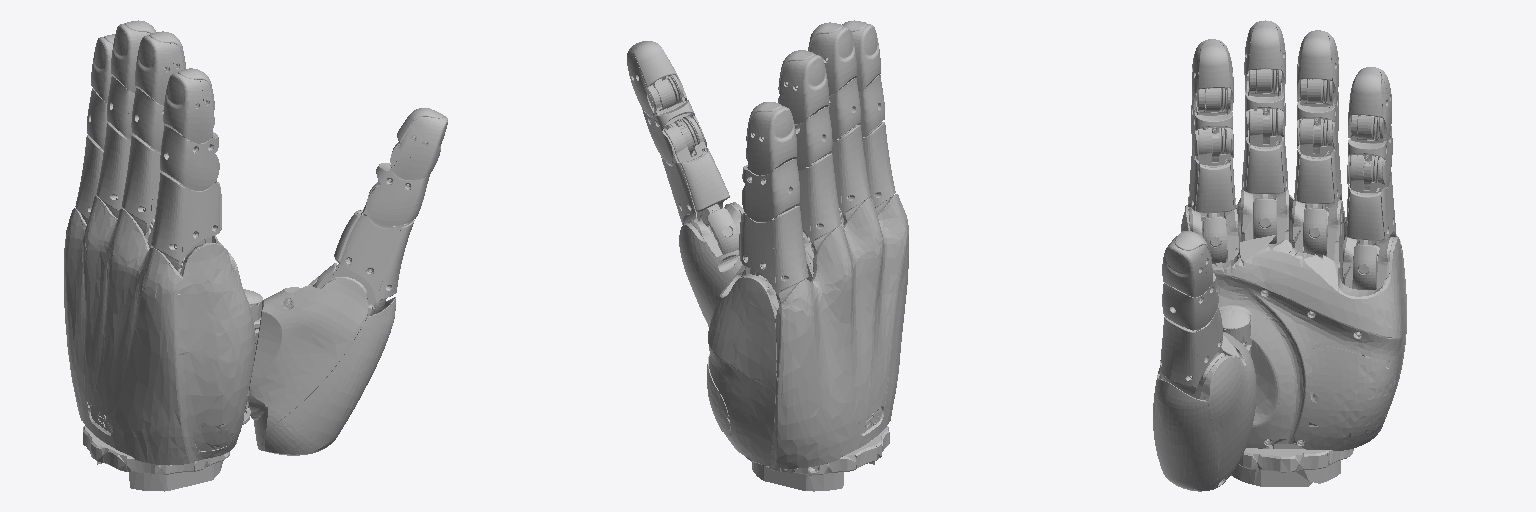
--- Facts derived from the render (not from the file) ---
Views: 3 orthographic renders of the robot side by side, from view 1: azimuth 30°, elevation 25°; view 2: azimuth 150°, elevation 25°; view 3: azimuth 270°, elevation 25°.
Robot: Left_adof_qca — 22 links, 21 joints (21 revolute); root link base_link; default pose: all joints at 0.
Visible links, largest first — view 1: base_link, Thumb_rot, Thumb_MCP_Yaw, Index_MCP_Yaw, Index_Distal_Phalanx, Thumb_Distal_Phalanx, Index_Middle_Phalanx, Thumb_Middle_Phalanx, Middle_MCP_Yaw, Middle_Distal_Phalanx, Ring_MCP_Yaw, Ring_Distal_Phalanx (+5 smaller); view 2: base_link, Thumb_MCP_Yaw, Pinky_MCP_Yaw, Thumb_rot, Pinky_Distal_Phalanx, Ring_MCP_Yaw, Ring_Distal_Phalanx, Pinky_Middle_Phalanx, Thumb_Distal_Phalanx, Middle_MCP_Yaw, Middle_Distal_Phalanx, Thumb_Middle_Phalanx (+5 smaller); view 3: base_link, Thumb_rot, Pinky_MCP_Yaw, Ring_MCP_Yaw, Index_MCP_Yaw, Middle_MCP_Yaw, Thumb_MCP_Yaw, Thumb_Distal_Phalanx, Pinky_Distal_Phalanx, Ring_Distal_Phalanx, Index_Distal_Phalanx, Middle_Distal_Phalanx (+5 smaller).
Link boxes in pixels (<box>): base_link: <box>64,196,262,491</box>; Thumb_rot: <box>248,276,395,455</box>; Thumb_MCP_Yaw: <box>313,182,414,316</box>; Index_MCP_Yaw: <box>151,173,221,273</box>; Index_Distal_Phalanx: <box>163,68,214,143</box>; Thumb_Distal_Phalanx: <box>390,108,447,179</box>; Index_Middle_Phalanx: <box>160,117,219,190</box>; Thumb_Middle_Phalanx: <box>367,147,430,226</box>; Middle_MCP_Yaw: <box>122,135,162,239</box>; Middle_Distal_Phalanx: <box>135,31,185,105</box>; Ring_MCP_Yaw: <box>96,123,130,217</box>; Ring_Distal_Phalanx: <box>111,20,155,93</box>; base_link: <box>707,194,908,491</box>; Thumb_MCP_Yaw: <box>661,116,739,254</box>; Pinky_MCP_Yaw: <box>739,206,808,305</box>; Thumb_rot: <box>679,202,744,326</box>; Pinky_Distal_Phalanx: <box>746,102,796,175</box>; Ring_MCP_Yaw: <box>798,153,841,255</box>; Ring_Distal_Phalanx: <box>778,50,828,123</box>; Pinky_Middle_Phalanx: <box>742,148,799,221</box>; Thumb_Distal_Phalanx: <box>627,41,686,116</box>; Middle_MCP_Yaw: <box>829,125,870,224</box>; Middle_Distal_Phalanx: <box>808,22,856,95</box>; Thumb_Middle_Phalanx: <box>642,75,706,163</box>; base_link: <box>1181,189,1406,486</box>; Thumb_rot: <box>1153,332,1256,491</box>; Pinky_MCP_Yaw: <box>1346,155,1396,289</box>; Ring_MCP_Yaw: <box>1294,119,1341,256</box>; Index_MCP_Yaw: <box>1188,128,1235,263</box>; Middle_MCP_Yaw: <box>1242,109,1287,243</box>; Thumb_MCP_Yaw: <box>1160,307,1222,395</box>; Thumb_Distal_Phalanx: <box>1162,231,1212,297</box>; Pinky_Distal_Phalanx: <box>1348,67,1391,140</box>; Ring_Distal_Phalanx: <box>1297,30,1338,103</box>; Index_Distal_Phalanx: <box>1192,39,1233,112</box>; Middle_Distal_Phalanx: <box>1244,20,1285,93</box>.
Bounding box of the posed robot: 0.1769 × 0.1304 × 0.247 m (x, y, z).
Meshes: 20 distinct files referenced, 22 mesh visuals loaded (20 binary STL).

URDF robot description (Left_adof_qca):
<?xml version="1.0" encoding="utf-8"?>
<!-- This URDF was automatically created by SolidWorks to URDF Exporter! Originally created by Stephen Brawner ([email redacted]) 
     Commit Version: 1.6.0-4-g7f85cfe  Build Version: 1.6.7995.38578
     For more information, please see http://wiki.ros.org/sw_urdf_exporter -->
<robot
  name="Left_adof_qca">
  <link
    name="base_link">
    <inertial>
      <origin
        xyz="0.00262 0.0018597 0.072402"
        rpy="0 0 0" />
      <mass
        value="0.87931" />
      <inertia
        ixx="0.0002736"
        ixy="5.4998E-06"
        ixz="5.6163E-07"
        iyy="0.0002408"
        iyz="6.42E-06"
        izz="0.00022581" />
    </inertial>
    <visual>
      <origin
        xyz="0 0 0"
        rpy="0 0 0" />
      <geometry>
        <mesh
          filename="./meshes/base_link.STL" />
      </geometry>
      <material
        name="">
        <color
          rgba="0.75294 0.75294 0.75294 1" />
      </material>
    </visual>
    <collision>
      <origin
        xyz="0 0 0"
        rpy="0 0 0" />
      <geometry>
        <mesh
          filename="./meshes/collmesh_base_link.STL" />
      </geometry>
    </collision>
  </link>
  <link
    name="Thumb_rot">
    <inertial>
      <origin
        xyz="0.036236 0.0066844 -0.035147"
        rpy="0 0 0" />
      <mass
        value="0.17849" />
      <inertia
        ixx="3.5551E-05"
        ixy="-1.8766E-06"
        ixz="-7.8788E-06"
        iyy="4.783E-05"
        iyz="-4.5666E-06"
        izz="2.1648E-05" />
    </inertial>
    <visual>
      <origin
        xyz="0 0 0"
        rpy="0 0 0" />
      <geometry>
        <mesh
          filename="./meshes/Thumb_rot.STL" />
      </geometry>
      <material
        name="">
        <color
          rgba="0.75294 0.75294 0.75294 1" />
      </material>
    </visual>
    <collision>
      <origin
        xyz="0 0 0"
        rpy="0 0 0" />
      <geometry>
        <mesh
          filename="./meshes/collmesh_thumb_rot.STL" />
      </geometry>
    </collision>
  </link>
  <joint
    name="revolute_Thumb_rot"
    type="revolute">
    <origin
      xyz="0.033806 -0.027174 0.098137"
      rpy="-0.060476 0.087782 -0.60444" />
    <parent
      link="base_link" />
    <child
      link="Thumb_rot" />
    <axis
      xyz="0 0 1" />
    <limit
      lower="-0.35"
      upper="0.35"
      effort="0"
      velocity="0" />
  </joint>
  <link
    name="Thumb_MCP_Pitch">
    <inertial>
      <origin
        xyz="-0.0010527 0.00024417 -0.0010403"
        rpy="0 0 0" />
      <mass
        value="1.5551E-08" />
      <inertia
        ixx="1.3996E-14"
        ixy="3.9443E-31"
        ixz="1.9722E-31"
        iyy="1.3996E-14"
        iyz="4.9304E-31"
        izz="1.3996E-14" />
    </inertial>
    <visual>
      <origin
        xyz="0 0 0"
        rpy="0 0 0" />
      <geometry>
        <mesh
          filename="./meshes/Thumb_MCP_Pitch.STL" />
      </geometry>
      <material
        name="">
        <color
          rgba="1 1 1 1" />
      </material>
    </visual>
    <collision>
      <origin
        xyz="0 0 0"
        rpy="0 0 0" />
      <geometry>
        <mesh
          filename="./meshes/Thumb_MCP_Pitch.STL" />
      </geometry>
    </collision>
  </link>
  <joint
    name="revolute_thumb_mcp_pitch"
    type="revolute">
    <origin
      xyz="0.049572 0.012465 -0.0022098"
      rpy="1.0587 -1.2066 0.48367" />
    <parent
      link="Thumb_rot" />
    <child
      link="Thumb_MCP_Pitch" />
    <axis
      xyz="0 0 1" />
    <limit
      lower="-0.069"
      upper="1.396"
      effort="0"
      velocity="0" />
  </joint>
  <link
    name="Thumb_MCP_Yaw">
    <inertial>
      <origin
        xyz="0.023289 -0.00025927 -0.0024467"
        rpy="0 0 0" />
      <mass
        value="0.067673" />
      <inertia
        ixx="2.5521E-06"
        ixy="-1.1521E-07"
        ixz="-6.4225E-07"
        iyy="7.0422E-06"
        iyz="-1.6244E-08"
        izz="6.1279E-06" />
    </inertial>
    <visual>
      <origin
        xyz="0 0 0"
        rpy="0 0 0" />
      <geometry>
        <mesh
          filename="./meshes/Index_MCP_Yaw.STL" />
      </geometry>
      <material
        name="">
        <color
          rgba="0.75294 0.75294 0.75294 1" />
      </material>
    </visual>
    <collision>
      <origin
        xyz="0 0 0"
        rpy="0 0 0" />
      <geometry>
        <mesh
          filename="./meshes/collmesh_PIP.STL" />
      </geometry>
    </collision>
  </link>
  <joint
    name="revolute_thumb_mcp_yaw"
    type="revolute">
    <origin
      xyz="0 0 0"
      rpy="-1.5708 0 -0.17819" />
    <parent
      link="Thumb_MCP_Pitch" />
    <child
      link="Thumb_MCP_Yaw" />
    <axis
      xyz="0 0 1" />
    <limit
      lower="-0.26"
      upper="0.26"
      effort="0"
      velocity="0" />
  </joint>
  <link
    name="Thumb_Middle_Phalanx">
    <inertial>
      <origin
        xyz="0.0077599 -0.0017774 -0.00030606"
        rpy="0 0 0" />
      <mass
        value="0.029543" />
      <inertia
        ixx="7.8711E-07"
        ixy="-4.3576E-08"
        ixz="-8.3245E-09"
        iyy="1.5531E-06"
        iyz="2.1732E-09"
        izz="1.867E-06" />
    </inertial>
    <visual>
      <origin
        xyz="0 0 0"
        rpy="0 0 0" />
      <geometry>
        <mesh
          filename="./meshes/Index_Middle_Phalanx.STL" />
      </geometry>
      <material
        name="">
        <color
          rgba="0.75294 0.75294 0.75294 1" />
      </material>
    </visual>
    <collision>
      <origin
        xyz="0 0 0"
        rpy="0 0 0" />
      <geometry>
        <mesh
          filename="./meshes/collmesh_MIP.STL" />
      </geometry>
    </collision>
  </link>
  <joint
    name="revolute_thumb_pip"
    type="revolute">
    <origin
      xyz="0.054033 0 0.0095766"
      rpy="1.5708 -0.17818 0" />
    <parent
      link="Thumb_MCP_Yaw" />
    <child
      link="Thumb_Middle_Phalanx" />
    <axis
      xyz="0 0 1" />
    <limit
      lower="-0.069"
      upper="1.57"
      effort="0"
      velocity="0" />
  </joint>
  <link
    name="Thumb_Distal_Phalanx">
    <inertial>
      <origin
        xyz="0.004942 0.0056589 0.0014452"
        rpy="0 0 0" />
      <mass
        value="0.022688" />
      <inertia
        ixx="1.2285E-06"
        ixy="-2.9815E-07"
        ixz="3.0627E-10"
        iyy="1.0792E-06"
        iyz="1.0593E-08"
        izz="1.2931E-06" />
    </inertial>
    <visual>
      <origin
        xyz="0 0 0"
        rpy="0 0 0" />
      <geometry>
        <mesh
          filename="./meshes/Thumb_Distal_Phalanx.STL" />
      </geometry>
      <material
        name="">
        <color
          rgba="0.75294 0.75294 0.75294 1" />
      </material>
    </visual>
    <collision>
      <origin
        xyz="0 0 0"
        rpy="0 0 1" />
      <geometry>
        <mesh
          filename="./meshes/collmesh_DIP.STL" />
      </geometry>
    </collision>
  </link>
  <joint
    name="revolute_thumb_dip"
    type="revolute">
    <origin
      xyz="0.025 0 0"
      rpy="0 0 -1.0072" />
    <parent
      link="Thumb_Middle_Phalanx" />
    <child
      link="Thumb_Distal_Phalanx" />
    <axis
      xyz="0 0 1" />
    <limit
      lower="0"
      upper="1.57"
      effort="0"
      velocity="0" />
    <mimic
      joint="revolute_thumb_pip"
      multiplier="1"
      offset="0" />
  </joint>
  <link
    name="Index_MCP_Pitch">
    <inertial>
      <origin
        xyz="7.7147E-14 -4.5621E-13 1.5508E-14"
        rpy="0 0 0" />
      <mass
        value="1.5551E-08" />
      <inertia
        ixx="1.3996E-14"
        ixy="-1.2037E-35"
        ixz="0"
        iyy="1.3996E-14"
        iyz="3.2358E-32"
        izz="1.3996E-14" />
    </inertial>
    <visual>
      <origin
        xyz="0 0 0"
        rpy="0 0 0" />
      <geometry>
        <mesh
          filename="./meshes/Index_MCP_Pitch.STL" />
      </geometry>
      <material
        name="">
        <color
          rgba="1 1 1 1" />
      </material>
    </visual>
    <collision>
      <origin
        xyz="0 0 0"
        rpy="0 0 0" />
      <geometry>
        <mesh
          filename="./meshes/Index_MCP_Pitch.STL" />
      </geometry>
    </collision>
  </link>
  <joint
    name="revolute_index_mcp_pitch"
    type="revolute">
    <origin
      xyz="-0.0023244 -0.036779 0.12754"
      rpy="-1.4835 -1.5708 0" />
    <parent
      link="base_link" />
    <child
      link="Index_MCP_Pitch" />
    <axis
      xyz="0 0 1" />
    <limit
      lower="-0.069"
      upper="1.396"
      effort="0"
      velocity="0" />
  </joint>
  <link
    name="Index_MCP_Yaw">
    <inertial>
      <origin
        xyz="0.023354 -0.00025925 0.0017197"
        rpy="0 0 0" />
      <mass
        value="0.067673" />
      <inertia
        ixx="2.8886E-06"
        ixy="-1.1047E-07"
        ixz="-1.2256E-06"
        iyy="7.0421E-06"
        iyz="-3.64E-08"
        izz="5.7914E-06" />
    </inertial>
    <visual>
      <origin
        xyz="0 0 0"
        rpy="0 0 0" />
      <geometry>
        <mesh
          filename="./meshes/Index_MCP_Yaw.STL" />
      </geometry>
      <material
        name="">
        <color
          rgba="0.75294 0.75294 0.75294 1" />
      </material>
    </visual>
    <collision>
      <origin
        xyz="0 0 0"
        rpy="0 0 0" />
      <geometry>
        <mesh
          filename="./meshes/collmesh_PIP.STL" />
      </geometry>
    </collision>
  </link>
  <joint
    name="revolute_index_mcp_yaw"
    type="revolute">
    <origin
      xyz="0 0 0"
      rpy="-1.5707963267949 0 -0.178185124236641" />
    <parent
      link="Index_MCP_Pitch" />
    <child
      link="Index_MCP_Yaw" />
    <axis
      xyz="0 0 -1" />
    <limit
      lower="-0.26"
      upper="0.26"
      effort="0"
      velocity="0" />
  </joint>
  <link
    name="Index_Middle_Phalanx">
    <inertial>
      <origin
        xyz="0.0077597 -0.0017773 -0.00030608"
        rpy="0 0 0" />
      <mass
        value="0.029544" />
      <inertia
        ixx="7.8714E-07"
        ixy="-4.3541E-08"
        ixz="-8.3303E-09"
        iyy="1.553E-06"
        iyz="2.17E-09"
        izz="1.867E-06" />
    </inertial>
    <visual>
      <origin
        xyz="0 0 0"
        rpy="0 0 0" />
      <geometry>
        <mesh
          filename="./meshes/Index_Middle_Phalanx.STL" />
      </geometry>
      <material
        name="">
        <color
          rgba="0.75294 0.75294 0.75294 1" />
      </material>
    </visual>
    <collision>
      <origin
        xyz="0 0 0"
        rpy="0 0 0" />
      <geometry>
        <mesh
          filename="./meshes/collmesh_MIP.STL" />
      </geometry>
    </collision>
  </link>
  <joint
    name="revolute_index_pip"
    type="revolute">
    <origin
      xyz="0.0531773329375974 0 0.00957659855900985"
      rpy="1.5707963267949 -0.178178157442995 0" />
    <parent
      link="Index_MCP_Yaw" />
    <child
      link="Index_Middle_Phalanx" />
    <axis
      xyz="0 0 1" />
    <limit
      lower="-0.069"
      upper="1.57"
      effort="0"
      velocity="0" />
  </joint>
  <link
    name="Index_Distal_Phalanx">
    <inertial>
      <origin
        xyz="0.0074236 -0.0011546 0.0014452"
        rpy="0 0 0" />
      <mass
        value="0.022687" />
      <inertia
        ixx="8.5252E-07"
        ixy="6.06E-08"
        ixz="9.1394E-09"
        iyy="1.4552E-06"
        iyz="5.4194E-09"
        izz="1.2931E-06" />
    </inertial>
    <visual>
      <origin
        xyz="0 0 0"
        rpy="0 0 0" />
      <geometry>
        <mesh
          filename="./meshes/Index_Distal_Phalanx.STL" />
      </geometry>
      <material
        name="">
        <color
          rgba="0.75294 0.75294 0.75294 1" />
      </material>
    </visual>
    <collision>
      <origin
        xyz="0 0 0"
        rpy="0 0 0" />
      <geometry>
        <mesh
          filename="./meshes/collmesh_DIP.STL" />
      </geometry>
    </collision>
  </link>
  <joint
    name="revolute_index_dip"
    type="revolute">
    <origin
      xyz="0.024999999999999 0 0"
      rpy="0 0 0" />
    <parent
      link="Index_Middle_Phalanx" />
    <child
      link="Index_Distal_Phalanx" />
    <axis
      xyz="0 0 1" />
    <limit
      lower="0"
      upper="1.57"
      effort="0"
      velocity="0" />
    <mimic
      joint="revolute_index_pip"
      multiplier="1"
      offset="0" />
  </joint>
  <link
    name="Middle_MCP_Pitch">
    <inertial>
      <origin
        xyz="8.0741E-14 -3.7871E-13 1.7564E-14"
        rpy="0 0 0" />
      <mass
        value="1.5551E-08" />
      <inertia
        ixx="1.3996E-14"
        ixy="0"
        ixz="-7.5232E-37"
        iyy="1.3996E-14"
        iyz="-1.4013E-45"
        izz="1.3996E-14" />
    </inertial>
    <visual>
      <origin
        xyz="0 0 0"
        rpy="0 0 0" />
      <geometry>
        <mesh
          filename="./meshes/Middle_MCP_Pitch.STL" />
      </geometry>
      <material
        name="">
        <color
          rgba="1 1 1 1" />
      </material>
    </visual>
    <collision>
      <origin
        xyz="0 0 0"
        rpy="0 0 0" />
      <geometry>
        <mesh
          filename="./meshes/Middle_MCP_Pitch.STL" />
      </geometry>
    </collision>
  </link>
  <joint
    name="revolute_middle_mcp_pitch"
    type="revolute">
    <origin
      xyz="-0.0035 -0.01 0.13754"
      rpy="0.0014449 -1.5708 -1.5722" />
    <parent
      link="base_link" />
    <child
      link="Middle_MCP_Pitch" />
    <axis
      xyz="0 0 1" />
    <limit
      lower="-0.069"
      upper="1.396"
      effort="0"
      velocity="0" />
  </joint>
  <link
    name="Middle_MCP_Yaw">
    <inertial>
      <origin
        xyz="0.023354 -0.00025928 0.0017195"
        rpy="0 0 0" />
      <mass
        value="0.067672" />
      <inertia
        ixx="2.8885E-06"
        ixy="-1.105E-07"
        ixz="-1.2256E-06"
        iyy="7.042E-06"
        iyz="-3.6405E-08"
        izz="5.7913E-06" />
    </inertial>
    <visual>
      <origin
        xyz="0 0 0"
        rpy="0 0 0" />
      <geometry>
        <mesh
          filename="./meshes/Middle_MCP_Yaw.STL" />
      </geometry>
      <material
        name="">
        <color
          rgba="0.75294 0.75294 0.75294 1" />
      </material>
    </visual>
    <collision>
      <origin
        xyz="0 0 0"
        rpy="0 0 0" />
      <geometry>
        <mesh
          filename="./meshes/collmesh_PIP.STL" />
      </geometry>
    </collision>
  </link>
  <joint
    name="revolute_middle_mcp_yaw"
    type="revolute">
    <origin
      xyz="0 0 0"
      rpy="-1.5707963267949 0 -0.178178157442995" />
    <parent
      link="Middle_MCP_Pitch" />
    <child
      link="Middle_MCP_Yaw" />
    <axis
      xyz="0 0 -1" />
    <limit
      lower="-0.26"
      upper="0.26"
      effort="0"
      velocity="0" />
  </joint>
  <link
    name="Middle_Middle_Phalanx">
    <inertial>
      <origin
        xyz="0.0077597 -0.0017773 -0.00030609"
        rpy="0 0 0" />
      <mass
        value="0.029544" />
      <inertia
        ixx="7.8714E-07"
        ixy="-4.3538E-08"
        ixz="-8.3303E-09"
        iyy="1.553E-06"
        iyz="2.1695E-09"
        izz="1.867E-06" />
    </inertial>
    <visual>
      <origin
        xyz="0 0 0"
        rpy="0 0 0" />
      <geometry>
        <mesh
          filename="./meshes/Middle_Middle_Phalanx.STL" />
      </geometry>
      <material
        name="">
        <color
          rgba="0.75294 0.75294 0.75294 1" />
      </material>
    </visual>
    <collision>
      <origin
        xyz="0 0 0"
        rpy="0 0 0" />
      <geometry>
        <mesh
          filename="./meshes/collmesh_MIP.STL" />
      </geometry>
    </collision>
  </link>
  <joint
    name="revolute_middle_pip"
    type="revolute">
    <origin
      xyz="0.0531773329375975 0 0.00957659855900988"
      rpy="1.5707963267949 -0.178178157442995 0" />
    <parent
      link="Middle_MCP_Yaw" />
    <child
      link="Middle_Middle_Phalanx" />
    <axis
      xyz="0 0 1" />
    <limit
      lower="-0.069"
      upper="1.57"
      effort="0"
      velocity="0" />
  </joint>
  <link
    name="Middle_Distal_Phalanx">
    <inertial>
      <origin
        xyz="0.0074236 -0.0011546 0.0014453"
        rpy="0 0 0" />
      <mass
        value="0.022687" />
      <inertia
        ixx="8.5251E-07"
        ixy="6.0599E-08"
        ixz="9.1392E-09"
        iyy="1.4552E-06"
        iyz="5.4197E-09"
        izz="1.293E-06" />
    </inertial>
    <visual>
      <origin
        xyz="0 0 0"
        rpy="0 0 0" />
      <geometry>
        <mesh
          filename="./meshes/Middle_Distal_Phalanx.STL" />
      </geometry>
      <material
        name="">
        <color
          rgba="0.75294 0.75294 0.75294 1" />
      </material>
    </visual>
    <collision>
      <origin
        xyz="0 0 0"
        rpy="0 0 0" />
      <geometry>
        <mesh
          filename="./meshes/collmesh_DIP.STL" />
      </geometry>
    </collision>
  </link>
  <joint
    name="revolute_middle_dip"
    type="revolute">
    <origin
      xyz="0.024999999999999 0 0"
      rpy="0 0 0" />
    <parent
      link="Middle_Middle_Phalanx" />
    <child
      link="Middle_Distal_Phalanx" />
    <axis
      xyz="0 0 1" />
    <limit
      lower="0"
      upper="1.57"
      effort="0"
      velocity="0" />
    <mimic
      joint="revolute_middle_pip"
      multiplier="1"
      offset="0" />
  </joint>
  <link
    name="Ring_MCP_Pitch">
    <inertial>
      <origin
        xyz="7.46208650426183E-14 -3.58193943256202E-13 1.64208924235965E-14"
        rpy="0 0 0" />
      <mass
        value="1.55508836352695E-08" />
      <inertia
        ixx="1.39957952717425E-14"
        ixy="0"
        ixz="1.43492962746861E-42"
        iyy="1.39957952717425E-14"
        iyz="-1.10872722239251E-37"
        izz="1.39957952717425E-14" />
    </inertial>
    <visual>
      <origin
        xyz="0 0 0"
        rpy="0 0 0" />
      <geometry>
        <mesh
          filename="./meshes/Ring_MCP_Pitch.STL" />
      </geometry>
      <material
        name="">
        <color
          rgba="1 1 1 1" />
      </material>
    </visual>
    <collision>
      <origin
        xyz="0 0 0"
        rpy="0 0 0" />
      <geometry>
        <mesh
          filename="./meshes/Ring_MCP_Pitch.STL" />
      </geometry>
    </collision>
  </link>
  <joint
    name="revolute_ring_mcp_pitch"
    type="revolute">
    <origin
      xyz="-0.00233 0.016783 0.13254"
      rpy="1.4835 -1.5708 3.1415" />
    <parent
      link="base_link" />
    <child
      link="Ring_MCP_Pitch" />
    <axis
      xyz="0 0 1" />
    <limit
      lower="-0.069"
      upper="1.396"
      effort="0"
      velocity="0" />
  </joint>
  <link
    name="Ring_MCP_Yaw">
    <inertial>
      <origin
        xyz="0.0233539200851404 -0.000259280031162691 0.00171960539589826"
        rpy="0 0 0" />
      <mass
        value="0.0676725890217035" />
      <inertia
        ixx="2.88855374167882E-06"
        ixy="-1.10503971095203E-07"
        ixz="-1.22562397188085E-06"
        iyy="7.04203097321866E-06"
        iyz="-3.64092810726939E-08"
        izz="5.79134036209241E-06" />
    </inertial>
    <visual>
      <origin
        xyz="0 0 0"
        rpy="0 0 0" />
      <geometry>
        <mesh
          filename="./meshes/Ring_MCP_Yaw.STL" />
      </geometry>
      <material
        name="">
        <color
          rgba="0.752941176470588 0.752941176470588 0.752941176470588 1" />
      </material>
    </visual>
    <collision>
      <origin
        xyz="0 0 0"
        rpy="0 0 0" />
      <geometry>
        <mesh
          filename="./meshes/collmesh_PIP.STL" />
      </geometry>
    </collision>
  </link>
  <joint
    name="revolute_ring_mcp_yaw"
    type="revolute">
    <origin
      xyz="0 0 0"
      rpy="-1.5707963267949 0 -0.178178157442995" />
    <parent
      link="Ring_MCP_Pitch" />
    <child
      link="Ring_MCP_Yaw" />
    <axis
      xyz="0 0 -1" />
    <limit
      lower="-0.26"
      upper="0.26"
      effort="0"
      velocity="0" />
  </joint>
  <link
    name="Ring_Middle_Phalanx">
    <inertial>
      <origin
        xyz="0.00775966708494394 -0.00177726086480209 -0.000306101523288419"
        rpy="0 0 0" />
      <mass
        value="0.0295437338526623" />
      <inertia
        ixx="7.8713682418045E-07"
        ixy="-4.3535457942173E-08"
        ixz="-8.33076051724147E-09"
        iyy="1.55303971063692E-06"
        iyz="2.16976434279443E-09"
        izz="1.86703638086089E-06" />
    </inertial>
    <visual>
      <origin
        xyz="0 0 0"
        rpy="0 0 0" />
      <geometry>
        <mesh
          filename="./meshes/Ring_Middle_Phalanx.STL" />
      </geometry>
      <material
        name="">
        <color
          rgba="0.752941176470588 0.752941176470588 0.752941176470588 1" />
      </material>
    </visual>
    <collision>
      <origin
        xyz="0 0 0"
        rpy="0 0 0" />
      <geometry>
        <mesh
          filename="./meshes/collmesh_MIP.STL" />
      </geometry>
    </collision>
  </link>
  <joint
    name="revolute_ring_pip"
    type="revolute">
    <origin
      xyz="0.0531773329375973 0 0.00957659855900985"
      rpy="1.5707963267949 -0.178178157442995 0" />
    <parent
      link="Ring_MCP_Yaw" />
    <child
      link="Ring_Middle_Phalanx" />
    <axis
      xyz="0 0 1" />
    <limit
      lower="-0.069"
      upper="1.57"
      effort="0"
      velocity="0" />
  </joint>
  <link
    name="Ring_Distal_Phalanx">
    <inertial>
      <origin
        xyz="0.00742355727626542 -0.00115462246542748 0.00144525459989377"
        rpy="0 0 0" />
      <mass
        value="0.0226873335069242" />
      <inertia
        ixx="8.52513795801006E-07"
        ixy="6.05989855841576E-08"
        ixz="9.14012360162029E-09"
        iyy="1.45515914884505E-06"
        iyz="5.4200018684508E-09"
        izz="1.29304694310126E-06" />
    </inertial>
    <visual>
      <origin
        xyz="0 0 0"
        rpy="0 0 0" />
      <geometry>
        <mesh
          filename="./meshes/Ring_Distal_Phalanx.STL" />
      </geometry>
      <material
        name="">
        <color
          rgba="0.752941176470588 0.752941176470588 0.752941176470588 1" />
      </material>
    </visual>
    <collision>
      <origin
        xyz="0 0 0"
        rpy="0 0 0" />
      <geometry>
        <mesh
          filename="./meshes/collmesh_DIP.STL" />
      </geometry>
    </collision>
  </link>
  <joint
    name="revolute_ring_dip"
    type="revolute">
    <origin
      xyz="0.024999999999999 0 0"
      rpy="0 0 0" />
    <parent
      link="Ring_Middle_Phalanx" />
    <child
      link="Ring_Distal_Phalanx" />
    <axis
      xyz="0 0 1" />
    <limit
      lower="0"
      upper="1.57"
      effort="0"
      velocity="0" />
    <mimic
      joint="revolute_ring_pip"
      multiplier="1"
      offset="0" />
  </joint>
  <link
    name="Pinky_MCP_Pitch">
    <inertial>
      <origin
        xyz="5.8938964819788E-14 -2.86111412339807E-13 1.29549149185948E-14"
        rpy="0 0 0" />
      <mass
        value="1.55508836352695E-08" />
      <inertia
        ixx="1.39957952717425E-14"
        ixy="-3.44383110592467E-41"
        ixz="2.86985925493723E-42"
        iyy="1.39957952717425E-14"
        iyz="-9.53178410376209E-38"
        izz="1.39957952717425E-14" />
    </inertial>
    <visual>
      <origin
        xyz="0 0 0"
        rpy="0 0 0" />
      <geometry>
        <mesh
          filename="./meshes/Pinky_MCP_Pitch.STL" />
      </geometry>
      <material
        name="">
        <color
          rgba="1 1 1 1" />
      </material>
    </visual>
    <collision>
      <origin
        xyz="0 0 0"
        rpy="0 0 0" />
      <geometry>
        <mesh
          filename="./meshes/Pinky_MCP_Pitch.STL" />
      </geometry>
    </collision>
  </link>
  <joint
    name="revolute_pinky_mcp_pitch"
    type="revolute">
    <origin
      xyz="0.0011768 0.04336 0.11354"
      rpy="1.3963 -1.5708 3.1415" />
    <parent
      link="base_link" />
    <child
      link="Pinky_MCP_Pitch" />
    <axis
      xyz="0 0 1" />
    <limit
      lower="-0.069"
      upper="1.396"
      effort="0"
      velocity="0" />
  </joint>
  <link
    name="Pinky_MCP_Yaw">
    <inertial>
      <origin
        xyz="0.0233539835961783 -0.000259287915291423 0.00171964421412448"
        rpy="0 0 0" />
      <mass
        value="0.0676728111954389" />
      <inertia
        ixx="2.88856080260417E-06"
        ixy="-1.10493541370926E-07"
        ixz="-1.22561369839184E-06"
        iyy="7.04211533183757E-06"
        iyz="-3.64140234133525E-08"
        izz="5.79143175893864E-06" />
    </inertial>
    <visual>
      <origin
        xyz="0 0 0"
        rpy="0 0 0" />
      <geometry>
        <mesh
          filename="./meshes/Pinky_MCP_Yaw.STL" />
      </geometry>
      <material
        name="">
        <color
          rgba="0.752941176470588 0.752941176470588 0.752941176470588 1" />
      </material>
    </visual>
    <collision>
      <origin
        xyz="0 0 0"
        rpy="0 0 0" />
      <geometry>
        <mesh
          filename="./meshes/collmesh_PIP.STL" />
      </geometry>
    </collision>
  </link>
  <joint
    name="revolute-pinky-mcp-yaw"
    type="revolute">
    <origin
      xyz="0 0 0"
      rpy="-1.5707963267949 0 -0.178178157442995" />
    <parent
      link="Pinky_MCP_Pitch" />
    <child
      link="Pinky_MCP_Yaw" />
    <axis
      xyz="0 0 -1" />
    <limit
      lower="-0.26"
      upper="0.26"
      effort="0"
      velocity="0" />
  </joint>
  <link
    name="Pinky_Middle_Phalanx">
    <inertial>
      <origin
        xyz="0.00775970821869693 -0.00177726120580614 -0.000306116708221039"
        rpy="0 0 0" />
      <mass
        value="0.0295437415601101" />
      <inertia
        ixx="7.87128577673229E-07"
        ixy="-4.35389361975895E-08"
        ixz="-8.33365671716258E-09"
        iyy="1.55305133619552E-06"
        iyz="2.17150359607773E-09"
        izz="1.8670407884802E-06" />
    </inertial>
    <visual>
      <origin
        xyz="0 0 0"
        rpy="0 0 0" />
      <geometry>
        <mesh
          filename="./meshes/Pinky_Middle_Phalanx.STL" />
      </geometry>
      <material
        name="">
        <color
          rgba="0.752941176470588 0.752941176470588 0.752941176470588 1" />
      </material>
    </visual>
    <collision>
      <origin
        xyz="0 0 0"
        rpy="0 0 0" />
      <geometry>
        <mesh
          filename="./meshes/collmesh_MIP.STL" />
      </geometry>
    </collision>
  </link>
  <joint
    name="revolute_pinky_pip"
    type="revolute">
    <origin
      xyz="0.0531773329375968 0 0.00957659855900982"
      rpy="1.5707963267949 -0.178178157442996 0" />
    <parent
      link="Pinky_MCP_Yaw" />
    <child
      link="Pinky_Middle_Phalanx" />
    <axis
      xyz="0 0 1" />
    <limit
      lower="-0.069"
      upper="1.57"
      effort="0"
      velocity="0" />
  </joint>
  <link
    name="Pinky_Distal_Phalanx">
    <inertial>
      <origin
        xyz="0.00742354982617852 -0.00115462148256808 0.00144525847716068"
        rpy="0 0 0" />
      <mass
        value="0.0226873204971801" />
      <inertia
        ixx="8.52513835043893E-07"
        ixy="6.06001573041114E-08"
        ixz="9.13990180782672E-09"
        iyy="1.45515758515916E-06"
        iyz="5.4198584948681E-09"
        izz="1.29304580803316E-06" />
    </inertial>
    <visual>
      <origin
        xyz="0 0 0"
        rpy="0 0 0" />
      <geometry>
        <mesh
          filename="./meshes/Pinky_Distal_Phalanx.STL" />
      </geometry>
      <material
        name="">
        <color
          rgba="0.752941176470588 0.752941176470588 0.752941176470588 1" />
      </material>
    </visual>
    <collision>
      <origin
        xyz="0 0 0"
        rpy="0 0 0" />
      <geometry>
        <mesh
          filename="./meshes/collmesh_DIP.STL" />
      </geometry>
    </collision>
  </link>
  <joint
    name="revolute_pinky_dip"
    type="revolute">
    <origin
      xyz="0.0249999999999989 0 0"
      rpy="0 0 0" />
    <parent
      link="Pinky_Middle_Phalanx" />
    <child
      link="Pinky_Distal_Phalanx" />
    <axis
      xyz="0 0 1" />
    <limit
      lower="0"
      upper="1.57"
      effort="0"
      velocity="0" />
    <mimic
      joint="revolute_pinky_pip"
      multiplier="1"
      offset="0" />
  </joint>
</robot>
